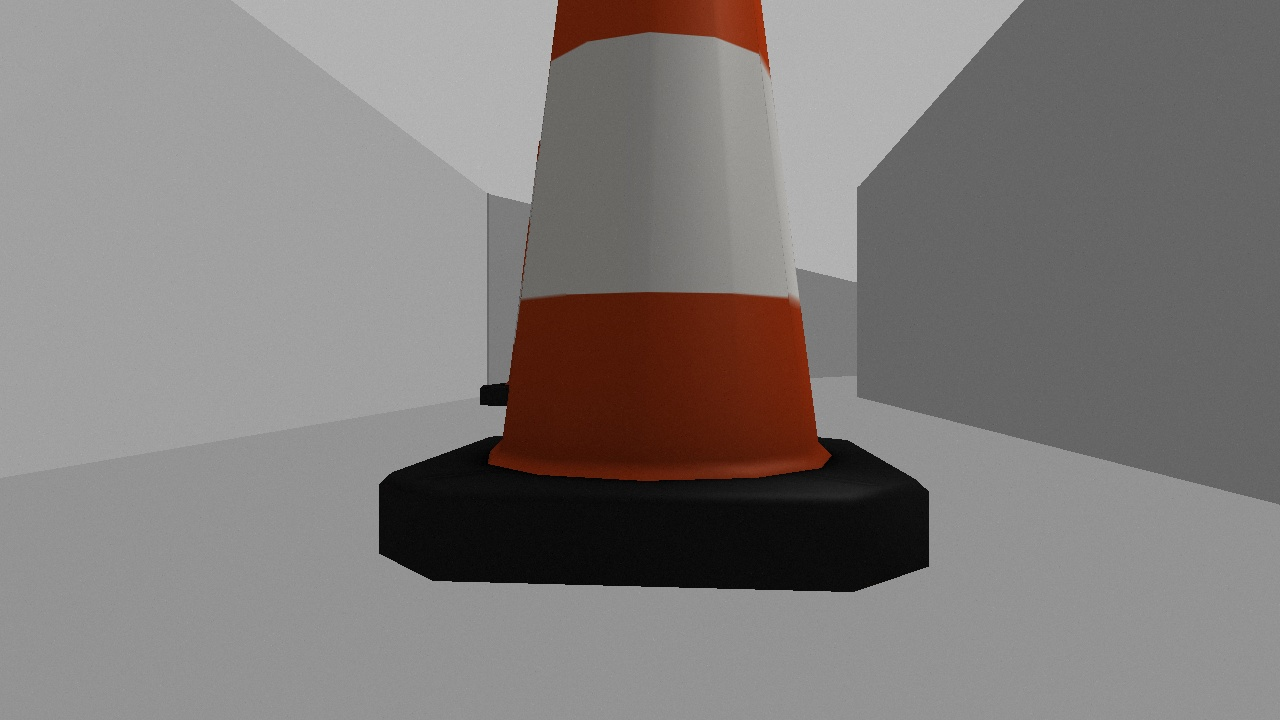barricade: (339, 1, 951, 611)
